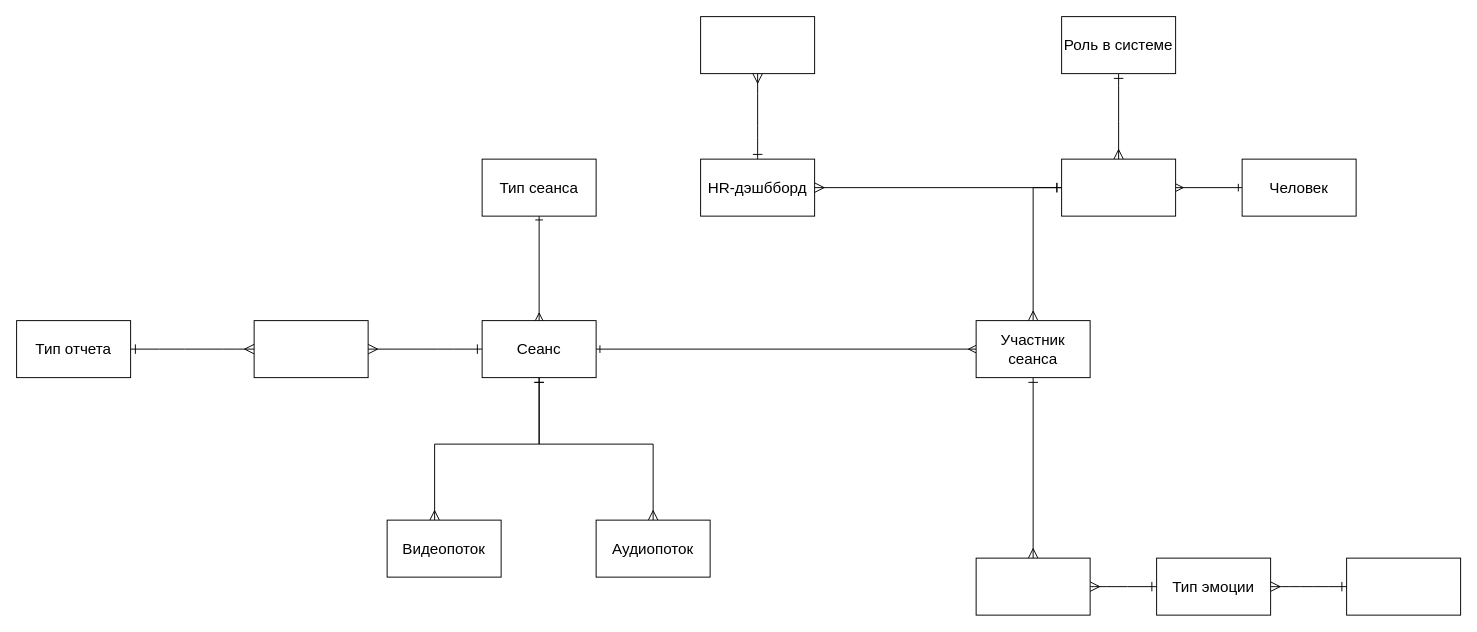
This 1477x632 diagram has some shape labels left out. The centre of each missing label's shape, as x and y in pixels:
"Виджет дэшборда" belongs at (x=757, y=45).
"Запись эмоции" belongs at (x=1032, y=586).
"Категория эмоции" belongs at (x=1403, y=586).
"Отчет" belongs at (x=310, y=349).
"Профиль участника" belongs at (x=1118, y=187).
